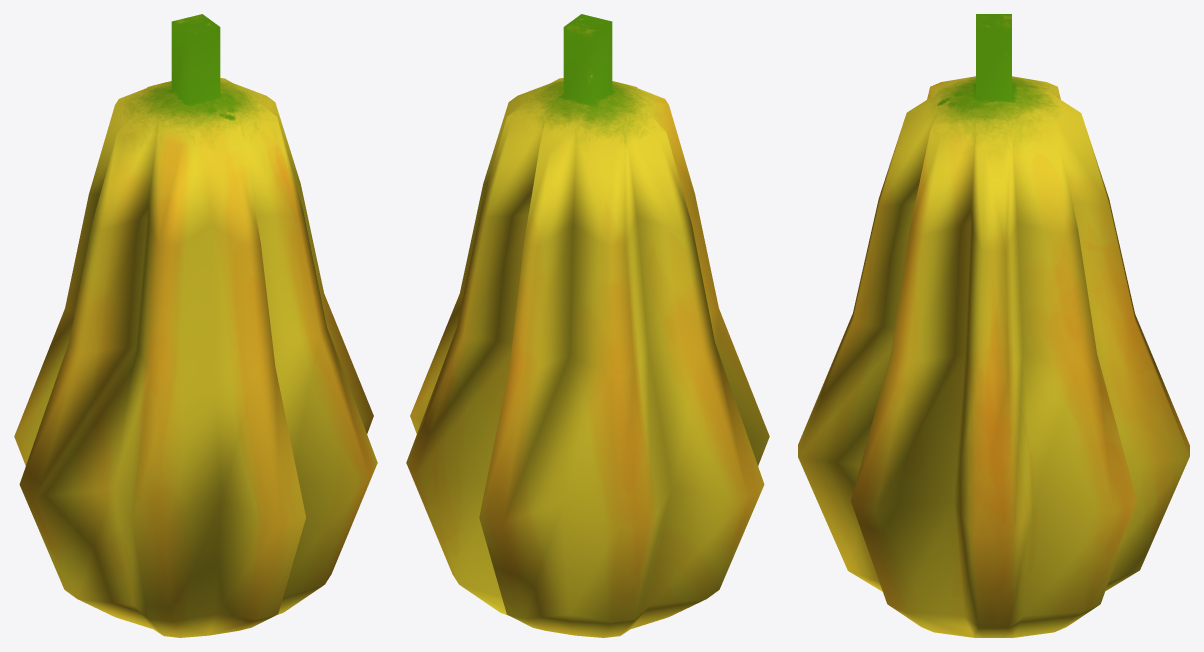
File: fruit_2.fbx
The picture shows the model from 3 angles, left to right: view 1: azimuth 30°, elevation 25°; view 2: azimuth 150°, elevation 25°; view 3: azimuth 270°, elevation 25°; orthographic projection.
Parts seen in each view (by area): view 1: fruit_2; view 2: fruit_2; view 3: fruit_2.
Part boxes in pixels (x1,y1,x2,y2): fruit_2: (14,14,377,637); fruit_2: (406,14,769,637); fruit_2: (798,14,1189,637).
Size of the model in its own units: 12.82 by 21.63 by 12.82.
Materials: 1 (1 with a texture image).
